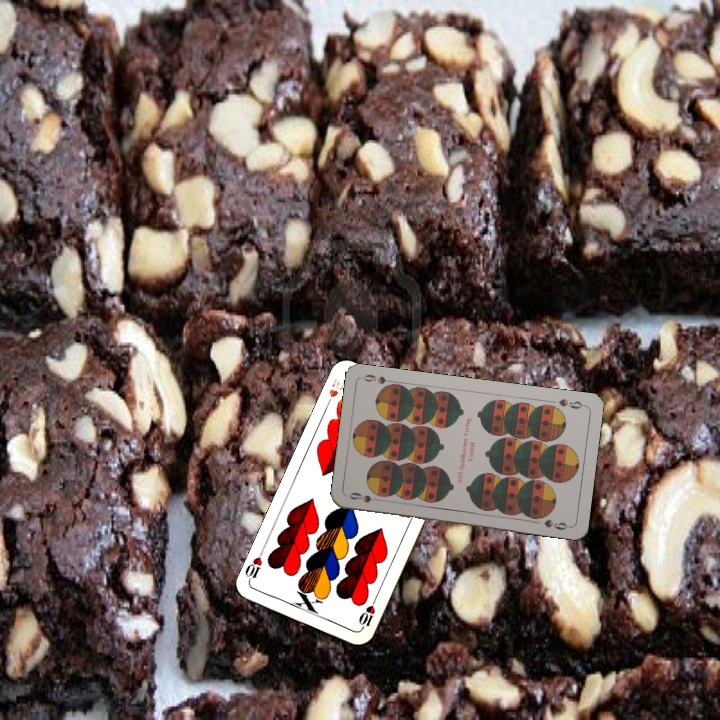H10: (321, 374, 348, 411), (354, 595, 379, 633)
S9: (346, 488, 385, 505), (555, 395, 587, 412)
